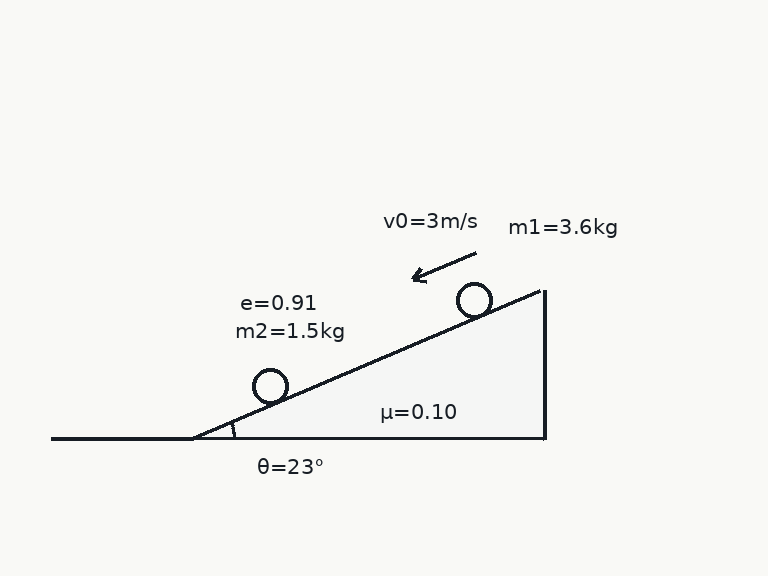ball: (454, 280, 494, 320), (250, 366, 290, 406)
ramp: (192, 288, 545, 440)
